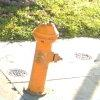a fire hydrant: (28, 18, 62, 97)
